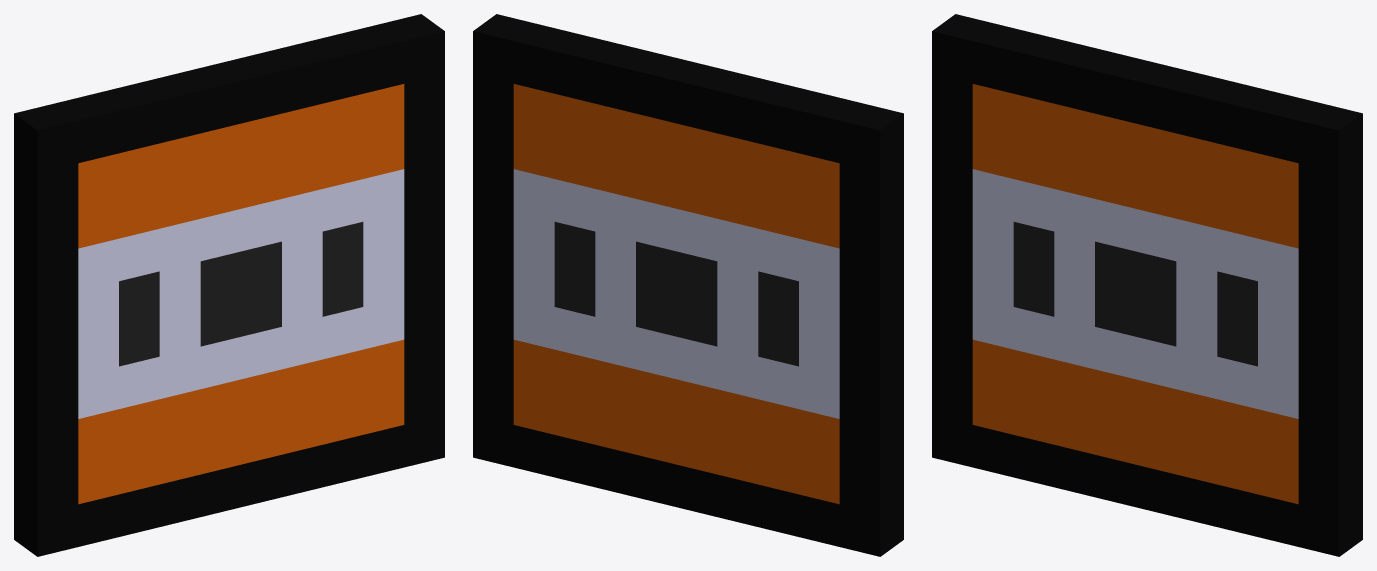
Rendered from Orange Paintball Explosive Item.glb.
3 views of the same model, side by side, from view 1: azimuth 30°, elevation 25°; view 2: azimuth 150°, elevation 25°; view 3: azimuth 330°, elevation 25° (orthographic).
Visible parts, largest first — view 1: generated; view 2: generated; view 3: generated.
Part boxes in pixels (x1=…): generated: x1=14, y1=14, x2=444, y2=556; generated: x1=473, y1=14, x2=903, y2=556; generated: x1=932, y1=14, x2=1362, y2=556.
Bounding box in the file's own units: 10 × 10 × 1.
Materials: 1 (1 with a texture image).
